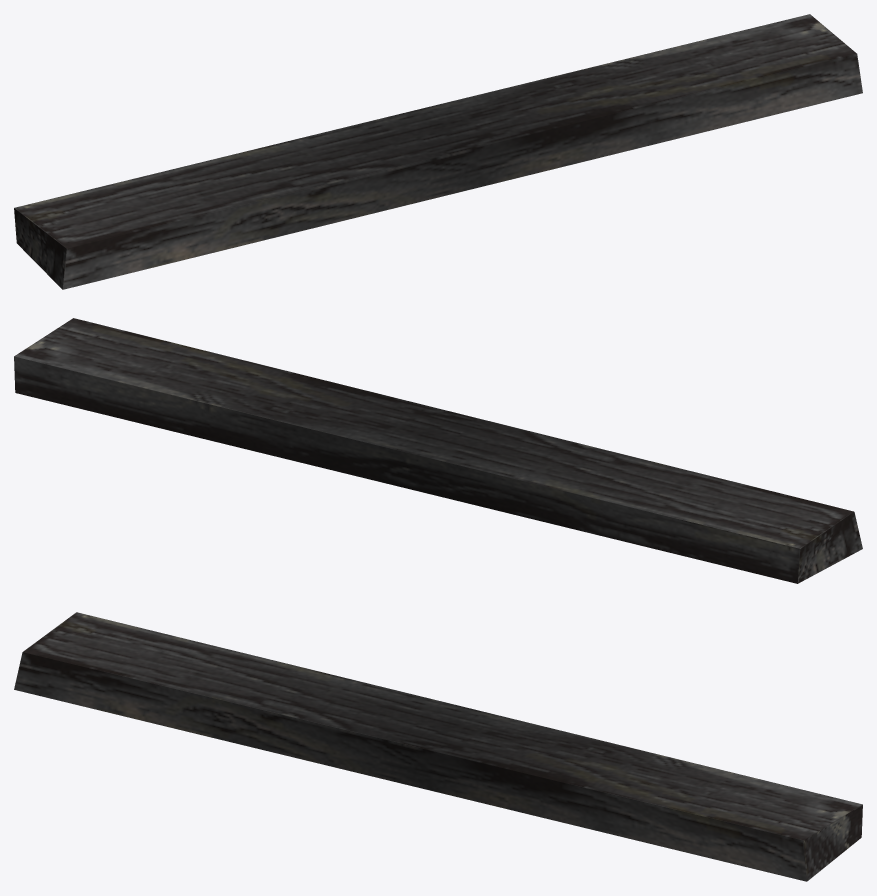
File: snow_old_woodboard.glb
3 views of the same model, one above another, from view 1: azimuth 30°, elevation 25°; view 2: azimuth 150°, elevation 25°; view 3: azimuth 330°, elevation 25° (orthographic).
Parts seen in each view (by area): view 1: _MeshInstance3D_13; view 2: _MeshInstance3D_13; view 3: _MeshInstance3D_13.
Part boxes in pixels (box(x1,y1,x2,y2)): _MeshInstance3D_13: box(14, 14, 862, 289); _MeshInstance3D_13: box(14, 318, 862, 583); _MeshInstance3D_13: box(14, 612, 862, 881).
Size of the model in its own units: 2 by 0.0962 by 0.2452.
Materials: 1 (1 with a texture image).
